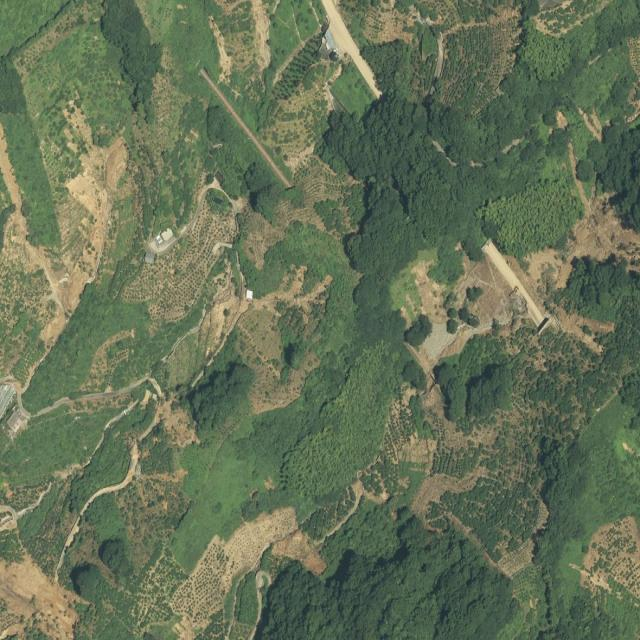landslide: (0, 92, 126, 388), (236, 266, 332, 414), (529, 193, 640, 287), (223, 508, 298, 592), (16, 1, 99, 75), (581, 517, 640, 600)
